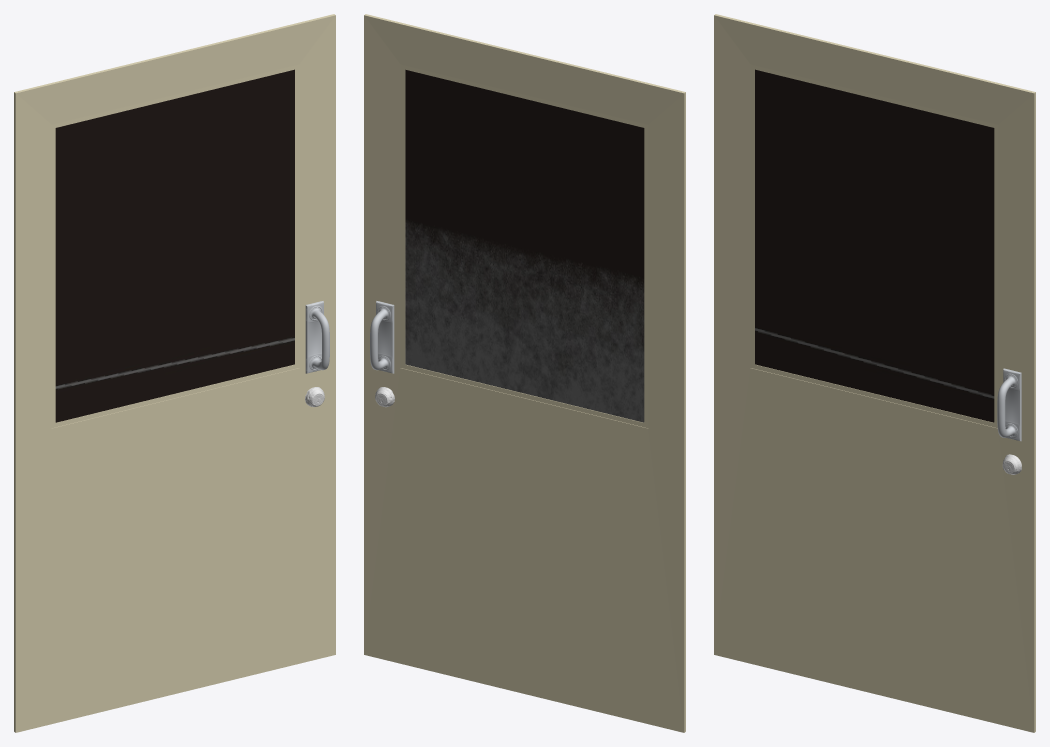
Rendered from Door.fbx.
3 renders of one model, left to right at view 1: azimuth 30°, elevation 25°; view 2: azimuth 150°, elevation 25°; view 3: azimuth 330°, elevation 25°, orthographic.
Parts seen in each view (by area): view 1: Door.002; view 2: Door.002; view 3: Door.002.
Part boxes in pixels (box(x1,y1,x2,y2)): Door.002: box(14, 14, 335, 732); Door.002: box(364, 14, 685, 732); Door.002: box(714, 14, 1035, 732).
Bounding box in the file's own units: 118 × 226 × 18.36.
4 materials, 1 textured.
